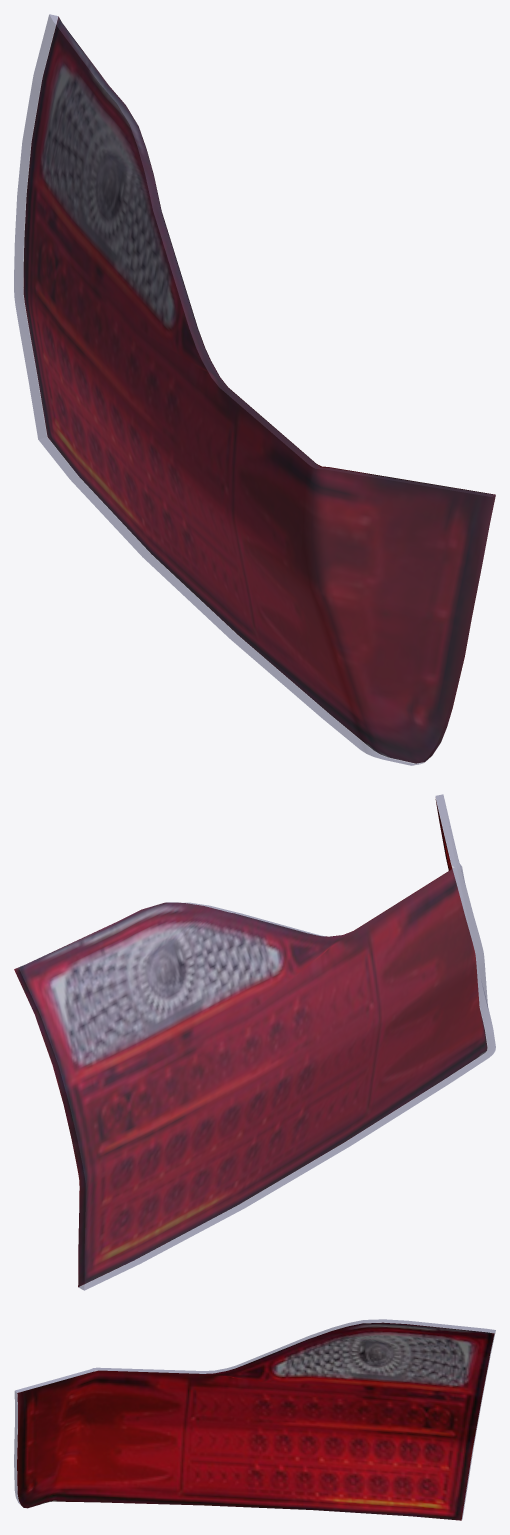
3 views of the same model, one above another, from view 1: azimuth 30°, elevation 25°; view 2: azimuth 150°, elevation 25°; view 3: azimuth 270°, elevation 25° (orthographic). The views are drawn at different scales.
Parts seen in each view (by area): view 1: H126_541D_L_H126_541D_L_2_DTaSI, H126_541D_L_1_N_H126_541D_L; view 2: H126_541D_L_H126_541D_L_2_DTaSI, H126_541D_L_1_N_H126_541D_L; view 3: H126_541D_L_1_N_H126_541D_L, H126_541D_L_H126_541D_L_2_DTaSI.
Part boxes in pixels (x1,y1,x2,y2): H126_541D_L_H126_541D_L_2_DTaSI: (14, 14, 495, 765); H126_541D_L_1_N_H126_541D_L: (23, 16, 495, 763); H126_541D_L_H126_541D_L_2_DTaSI: (14, 794, 495, 1290); H126_541D_L_1_N_H126_541D_L: (14, 799, 487, 1287); H126_541D_L_1_N_H126_541D_L: (17, 1322, 494, 1520); H126_541D_L_H126_541D_L_2_DTaSI: (14, 1319, 495, 1519).
Bounding box in the file's own units: 8.48 × 21.66 × 46.9.
